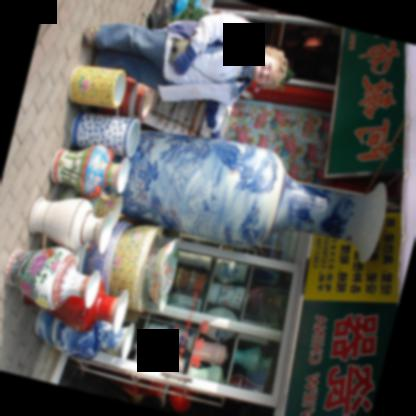handbag: (166, 36, 188, 62)
